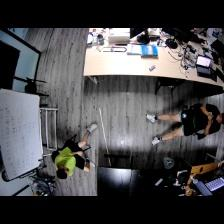normal: (146, 103, 224, 147), (53, 122, 97, 177)
